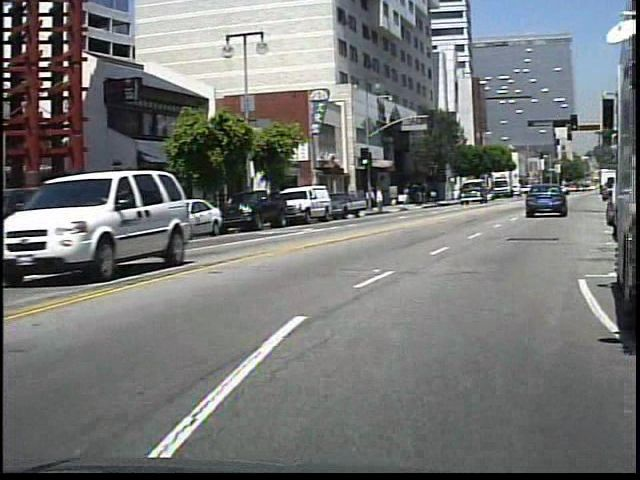person: (376, 186, 391, 215)
